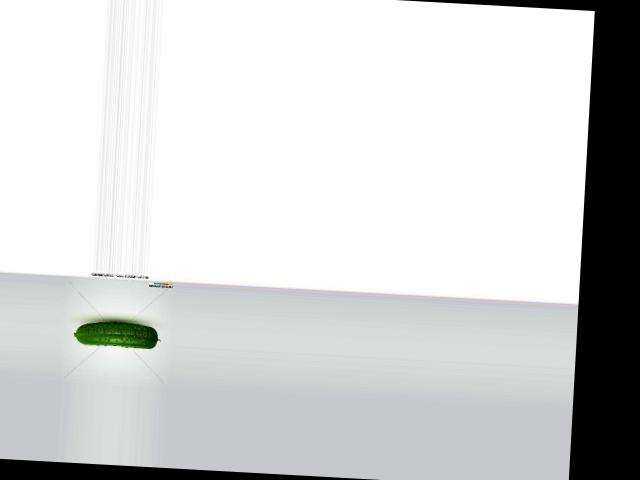cucumber: (72, 319, 161, 349)
